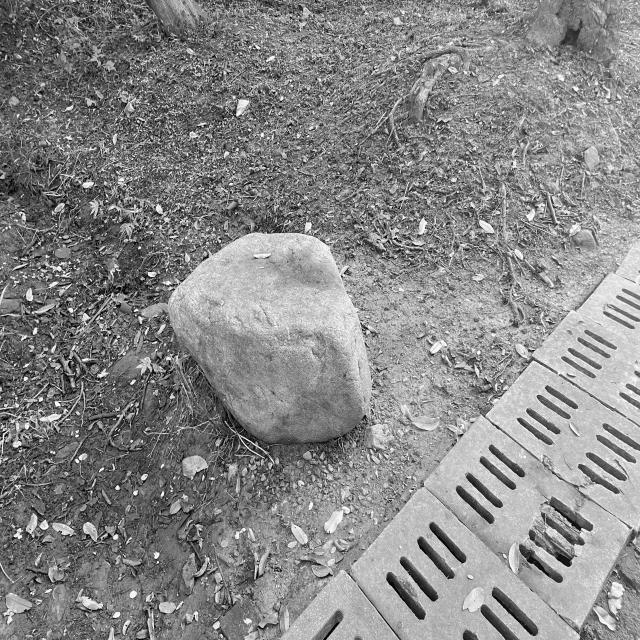Stone: (169, 234, 371, 443)
